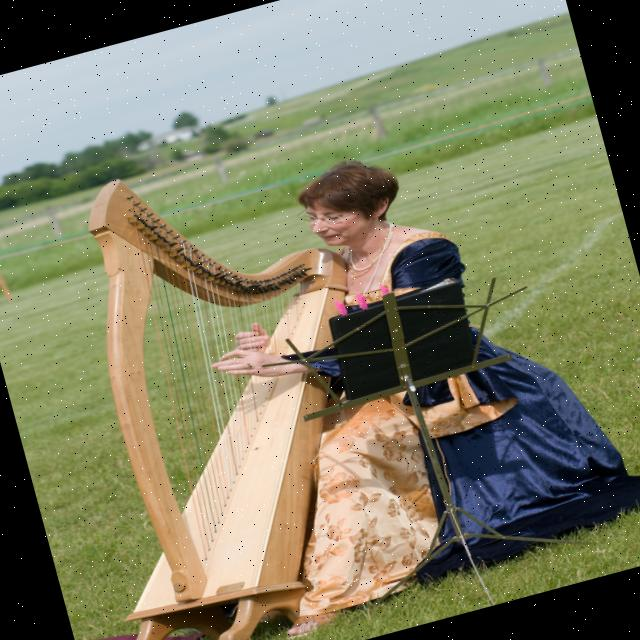harp: (0, 123, 437, 640)
